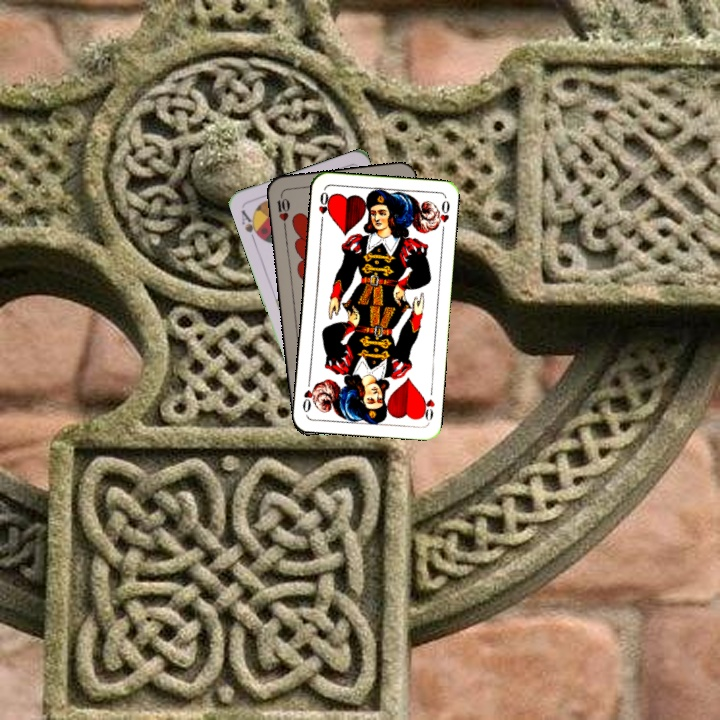H10: (273, 191, 292, 231)
HO: (417, 384, 437, 424), (314, 188, 333, 227)
SA: (237, 206, 264, 244)
